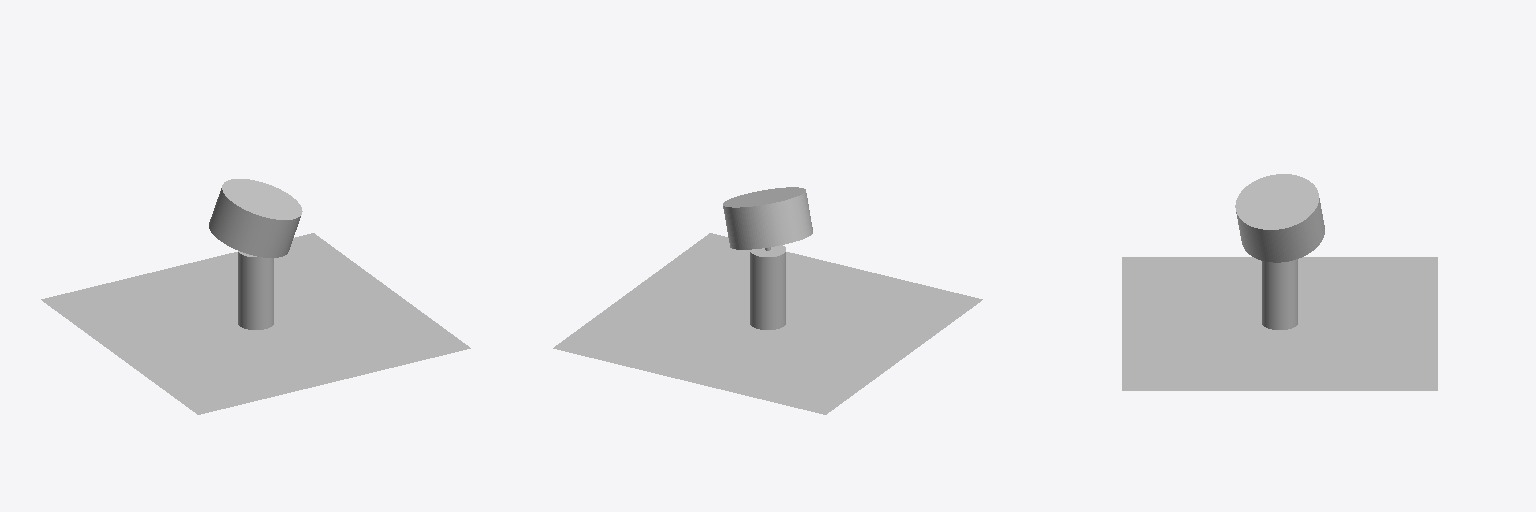
Rendered from lamp3.obj.
3 renders of one model, left to right at view 1: azimuth 30°, elevation 25°; view 2: azimuth 150°, elevation 25°; view 3: azimuth 270°, elevation 25°, orthographic.
Parts seen in each view (by area): view 1: Plane, Cylinder.002, Cylinder; view 2: Plane, Cylinder.002, Cylinder, Cylinder.001; view 3: Plane, Cylinder.002, Cylinder.
Boxes of the visible parts, x1,y1,x2,y2 form: Plane: [41, 233, 470, 414]; Cylinder.002: [209, 179, 302, 257]; Cylinder: [238, 259, 273, 329]; Plane: [553, 233, 982, 414]; Cylinder.002: [723, 187, 812, 249]; Cylinder: [750, 259, 785, 329]; Cylinder.001: [750, 245, 785, 264]; Plane: [1122, 257, 1437, 390]; Cylinder.002: [1235, 174, 1324, 262]; Cylinder: [1262, 259, 1297, 329].
Size of the model in its own units: 17.18 by 8.17 by 17.18.